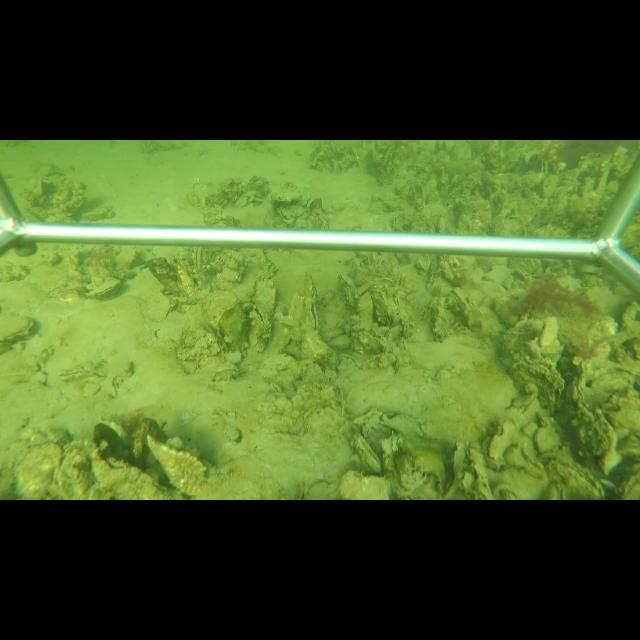Oyster-Closed: (559, 362, 617, 470), (509, 341, 565, 419), (144, 434, 203, 494), (13, 440, 61, 500), (205, 288, 247, 352), (544, 456, 604, 500), (203, 206, 243, 254), (484, 420, 516, 466), (350, 433, 384, 475), (0, 310, 36, 342), (253, 276, 277, 320), (57, 364, 105, 384), (271, 180, 303, 203), (86, 278, 122, 298), (245, 175, 271, 197), (213, 362, 239, 382), (188, 245, 204, 275), (328, 332, 352, 351), (343, 284, 357, 306), (336, 272, 356, 286)
Oyster-Open: (300, 272, 320, 334), (248, 303, 272, 339)
